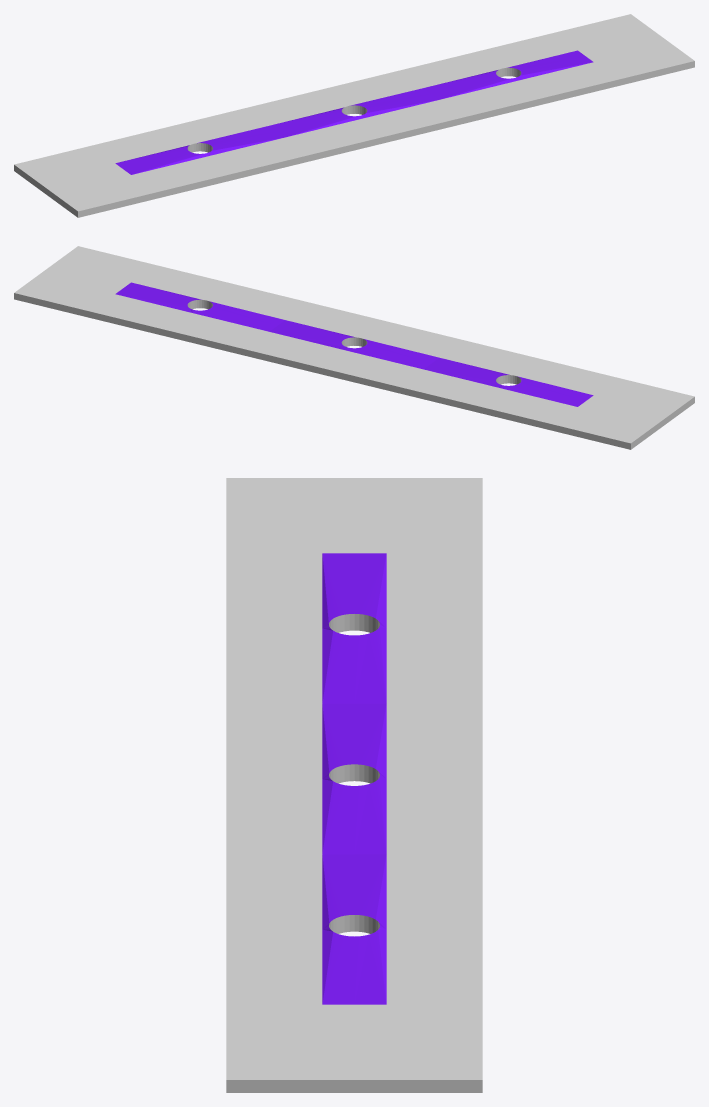
The model's file is PuzzleWall.fbx.
3 renders of one model, top to bottom at view 1: azimuth 30°, elevation 25°; view 2: azimuth 150°, elevation 25°; view 3: azimuth 270°, elevation 25°, orthographic. The views are drawn at different scales.
Parts seen in each view (by area): view 1: Cube.002; view 2: Cube.002; view 3: Cube.002.
Part boxes in pixels (x1=…): Cube.002: x1=14, y1=14, x2=694, y2=217; Cube.002: x1=14, y1=246, x2=694, y2=449; Cube.002: x1=226, y1=478, x2=482, y2=1092.
Size of the model in its own units: 1000 by 13 by 180.
